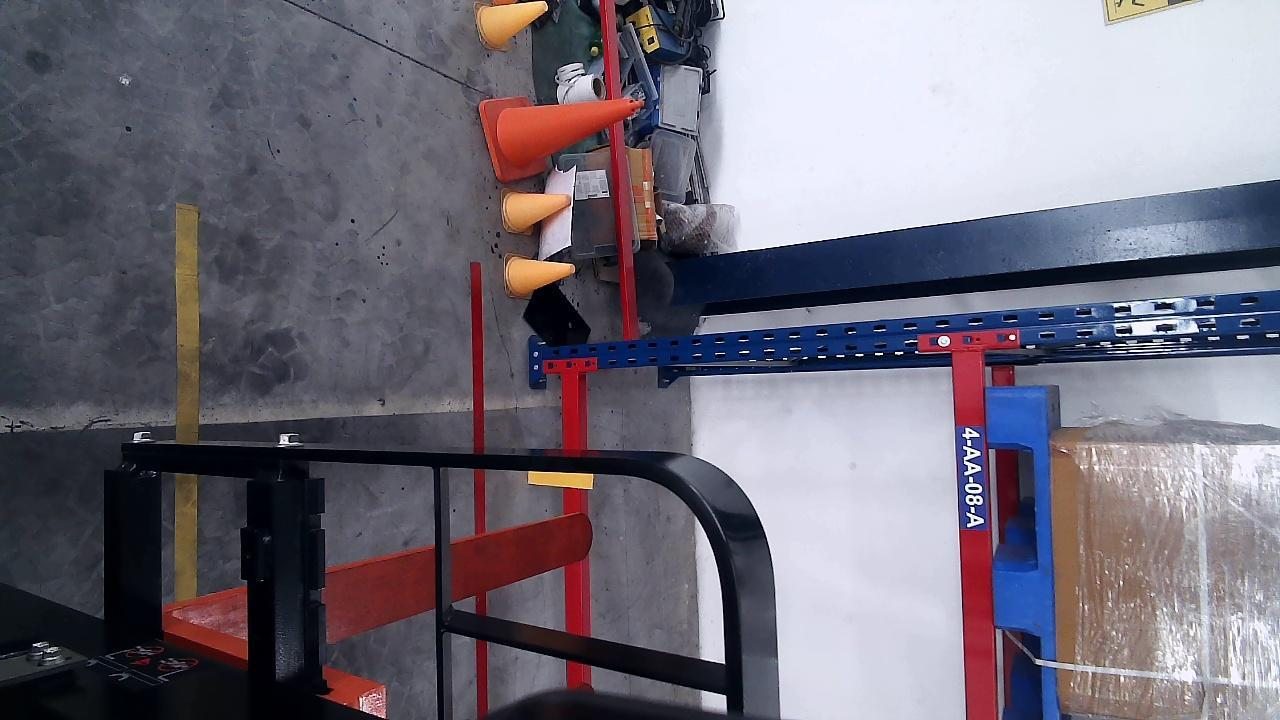h_rack: (951, 348, 997, 718), (562, 374, 582, 684)
red_line: (469, 262, 488, 720)
small_pallet: (988, 384, 1056, 720)
yellow_line: (171, 202, 200, 606)
